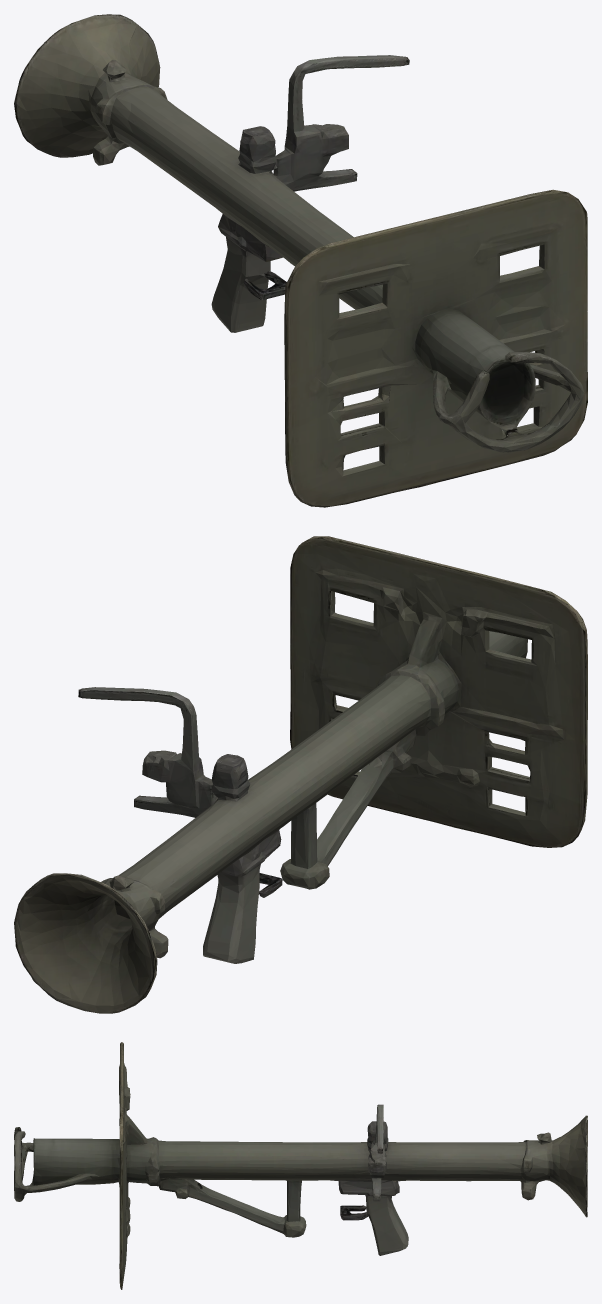
Rendered from panzerschreck.glb.
The picture shows the model from 3 angles, top to bottom: view 1: azimuth 30°, elevation 25°; view 2: azimuth 150°, elevation 25°; view 3: azimuth 270°, elevation 25°; orthographic projection. The views are drawn at different scales.
Parts seen in each view (by area): view 1: geometry_0; view 2: geometry_0; view 3: geometry_0.
Boxes of the visible parts, x1=… form: geometry_0: x1=14, y1=14, x2=587, y2=507; geometry_0: x1=14, y1=536, x2=587, y2=1013; geometry_0: x1=14, y1=1042, x2=587, y2=1289.
Bounding box in the file's own units: 0.4228 × 0.3348 × 1.
Materials: 1 (1 with a texture image).
